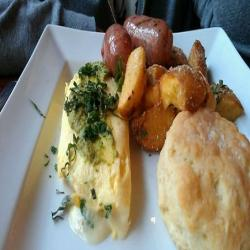bread: (152, 110, 248, 250)
omelette: (64, 67, 136, 241)
